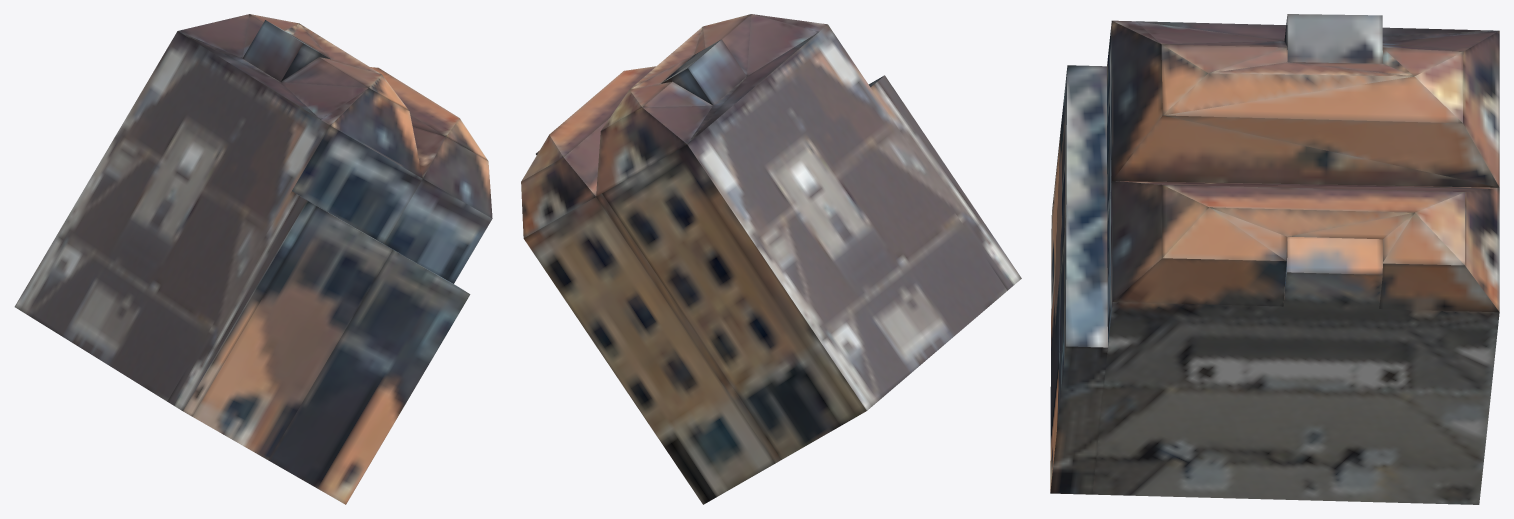
3 renders of one model, left to right at view 1: azimuth 30°, elevation 25°; view 2: azimuth 150°, elevation 25°; view 3: azimuth 270°, elevation 25°, orthographic. The views are drawn at different scales.
Visible parts, largest first — view 1: BAG_0599100000688745 (×6); view 2: BAG_0599100000688745 (×6); view 3: BAG_0599100000688745 (×7).
Part boxes in pixels (x1=…): BAG_0599100000688745 (×6): x1=14, y1=14, x2=492, y2=504; BAG_0599100000688745 (×6): x1=521, y1=14, x2=1021, y2=504; BAG_0599100000688745 (×7): x1=1050, y1=14, x2=1499, y2=504.
Bounding box in the file's own units: 17.38 × 17.94 × 13.89.
Materials: 1 (1 with a texture image).
